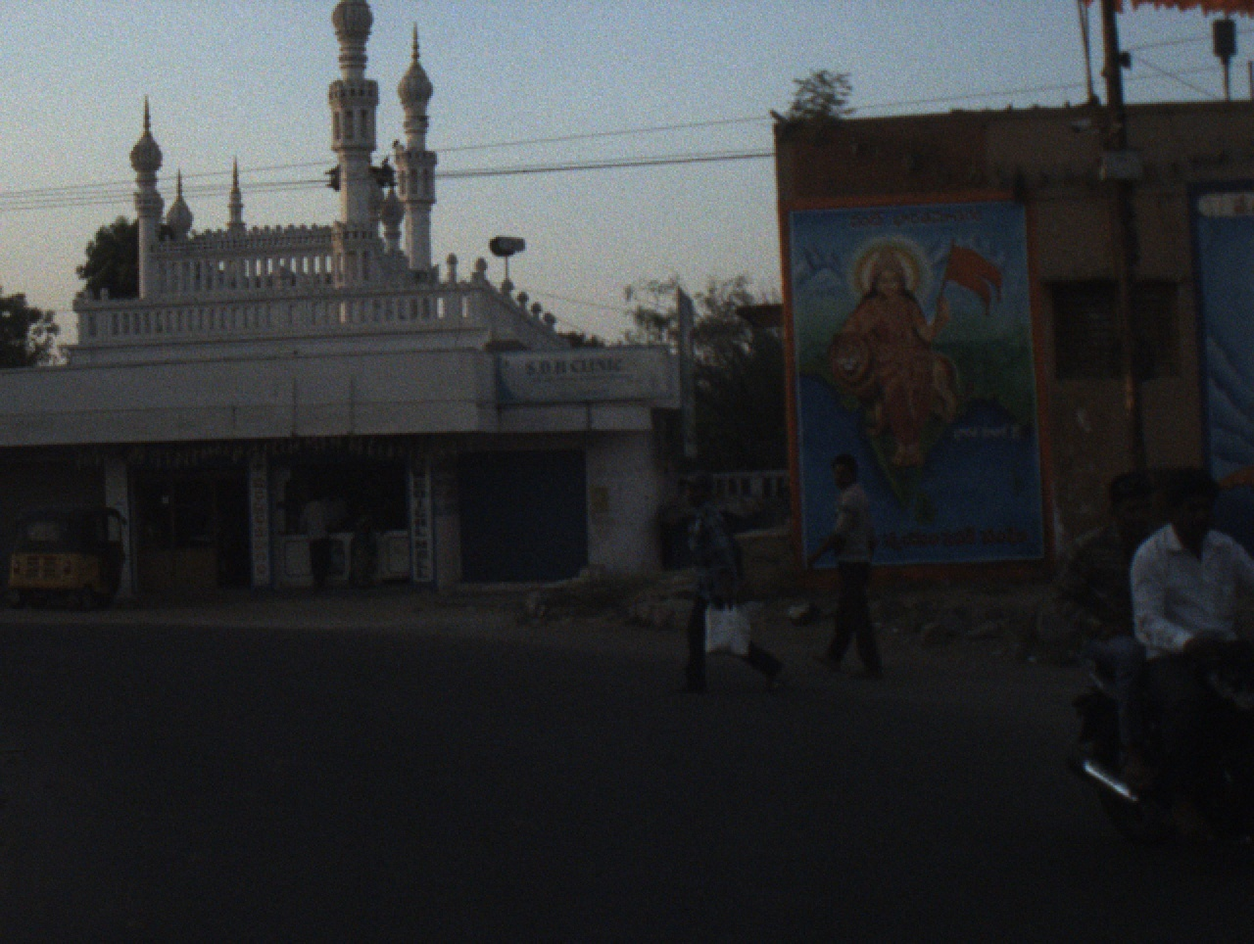autorickshaw: (1, 501, 127, 600)
motorcycle: (1077, 643, 1254, 883)
person: (667, 459, 787, 699), (789, 448, 894, 684), (292, 477, 338, 600), (344, 494, 381, 593)
rider: (1042, 470, 1161, 792), (1120, 464, 1254, 714)
